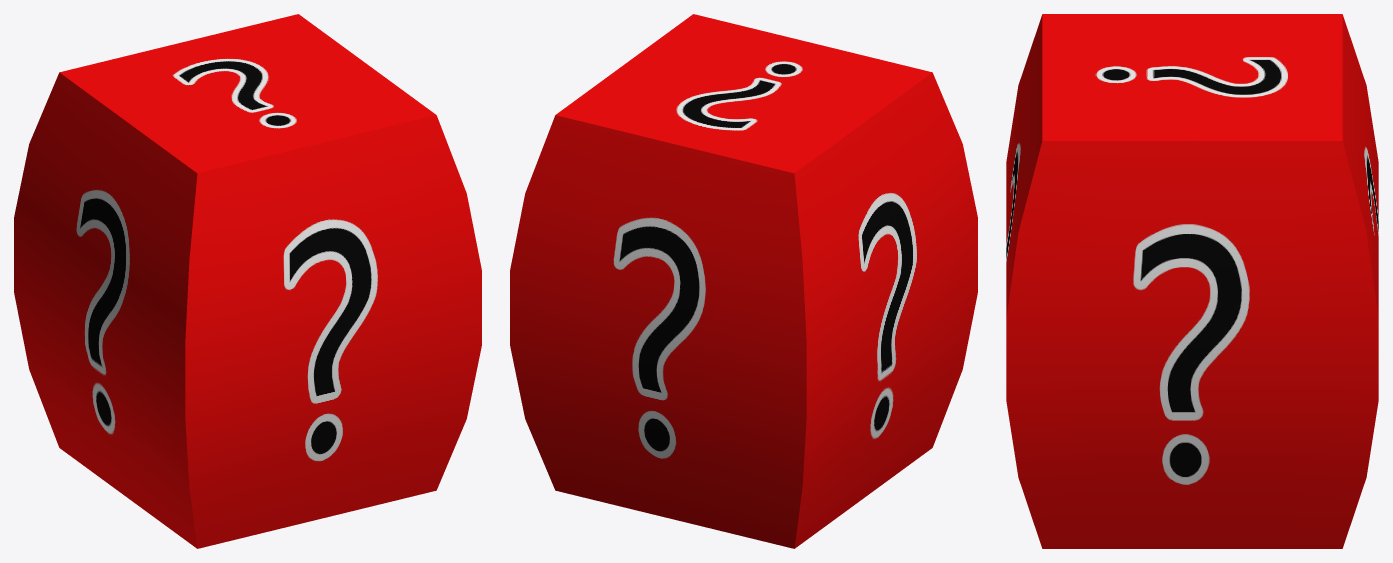
The model's file is itembox.dae.
3 views of the same model, side by side, from view 1: azimuth 30°, elevation 25°; view 2: azimuth 150°, elevation 25°; view 3: azimuth 270°, elevation 25° (orthographic). The views are drawn at different scales.
Parts seen in each view (by area): view 1: Box001; view 2: Box001; view 3: Box001.
Boxes of the visible parts, left/top/right/bottom form: Box001: left=14, top=14, right=481, bottom=548; Box001: left=510, top=14, right=977, bottom=548; Box001: left=1006, top=14, right=1378, bottom=548.
Bounding box in the file's own units: 33.07 × 40 × 33.07.
